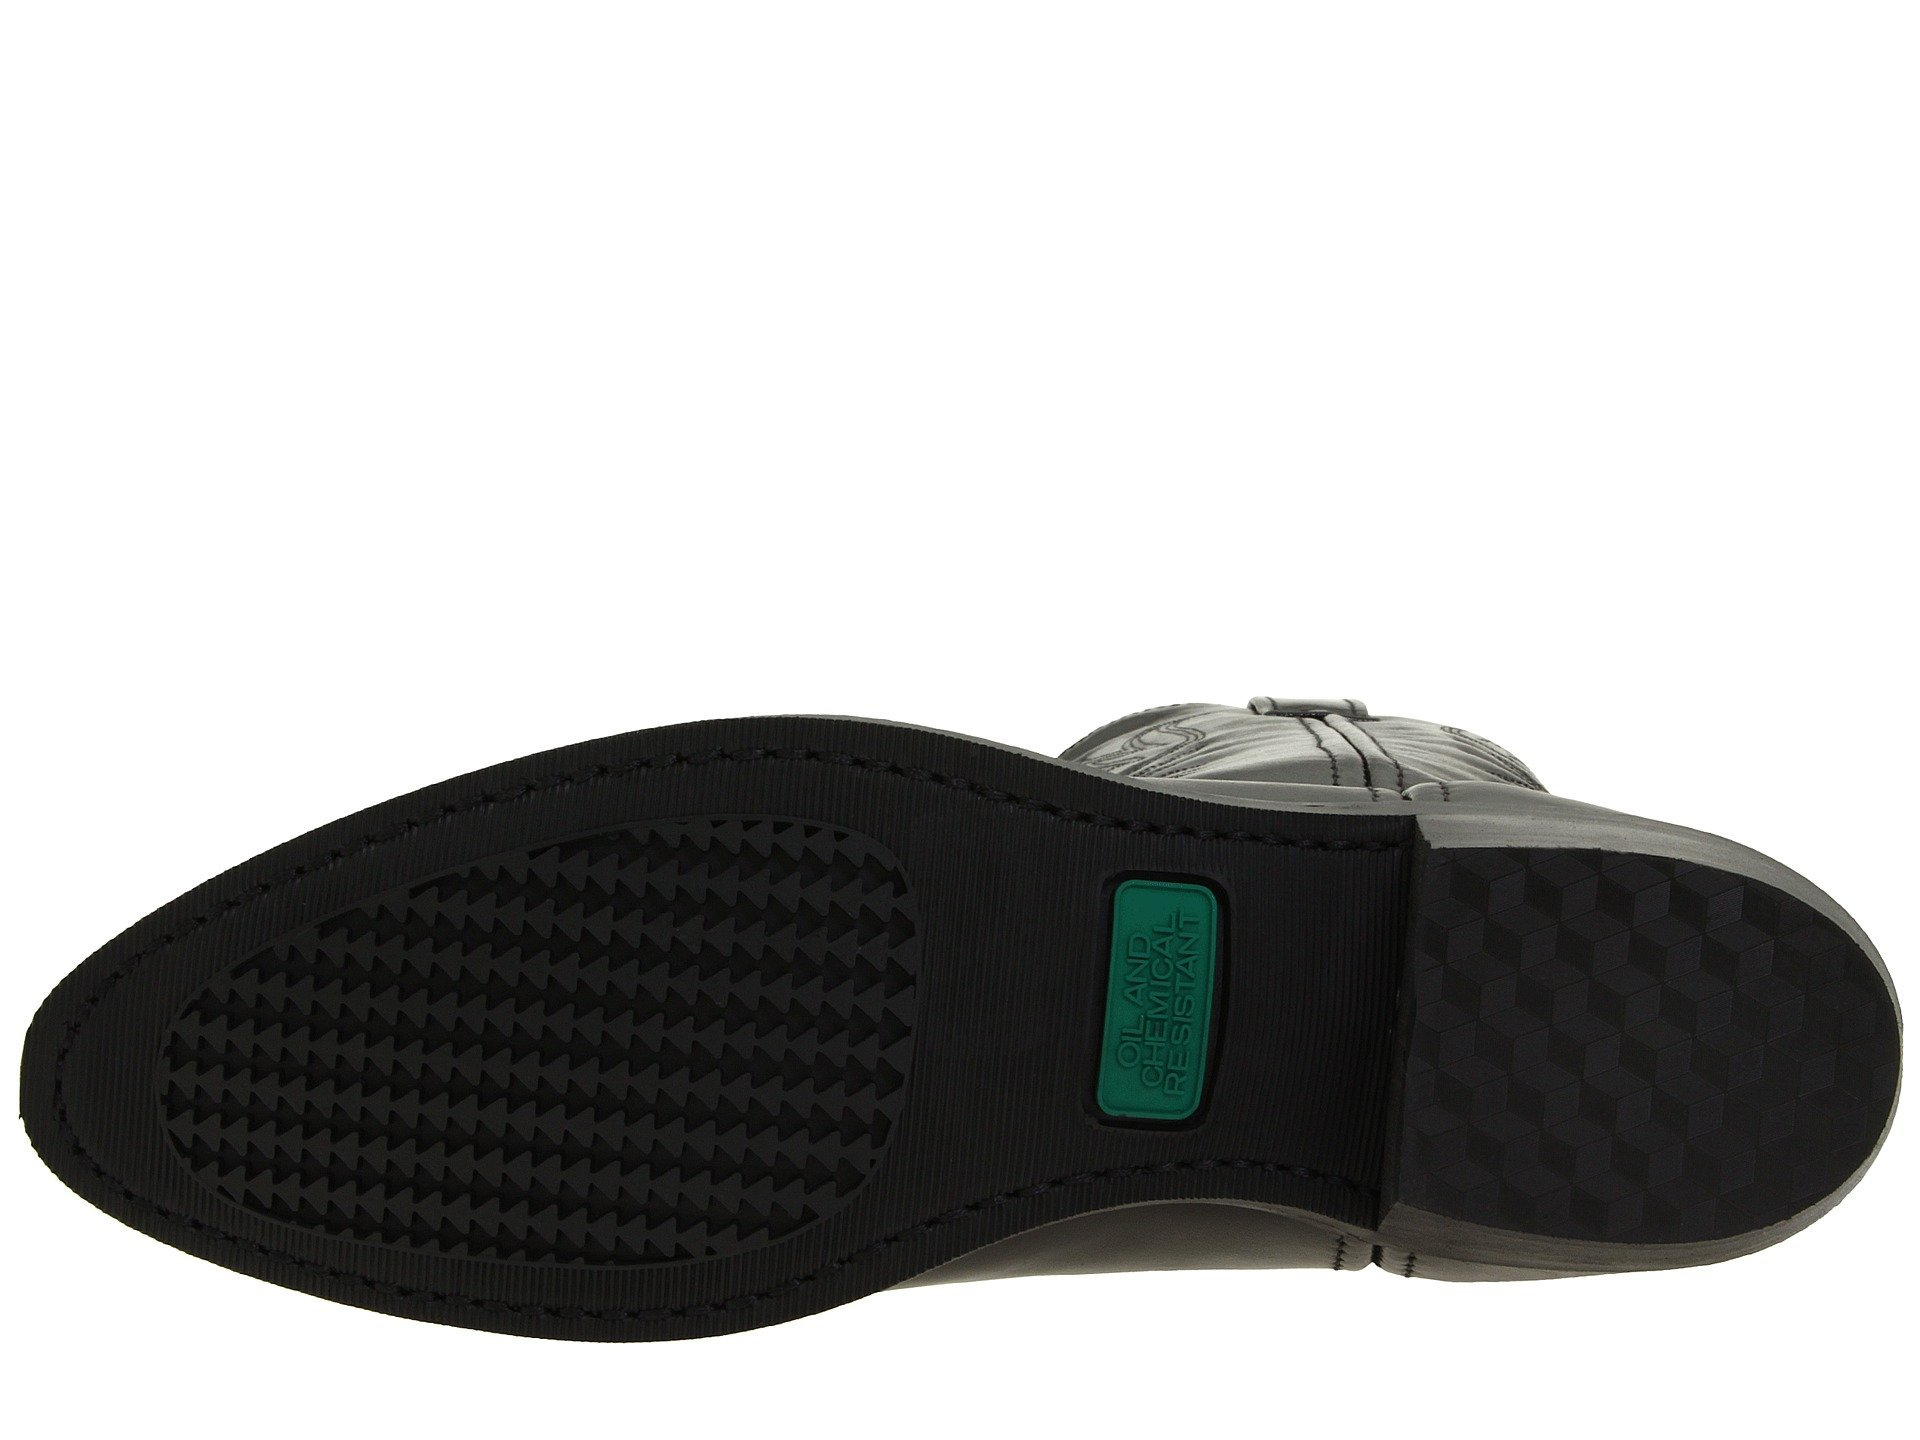exclude: (1060, 663, 1599, 796)
line: (1023, 833, 1268, 1160)
polygon: (1435, 868, 1757, 1209)
quad: (1435, 868, 1757, 1209), (1023, 833, 1268, 1160)
text: (1023, 833, 1268, 1160)
triangle: (296, 883, 847, 1184)
